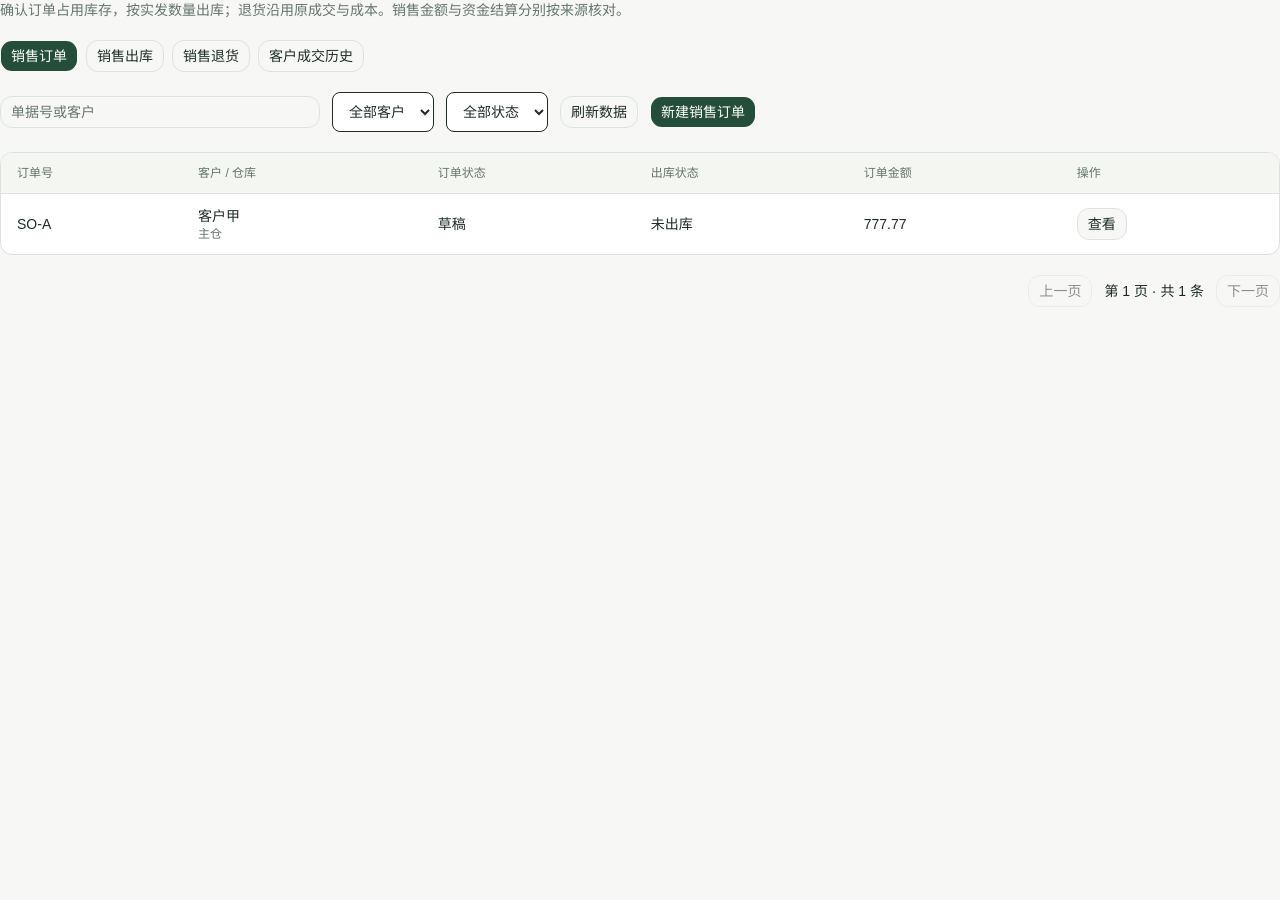
Test case: business conflict DOCUMENT_VERSION_CONFLICT does not silently retry or dismiss the review
The image size is (1280, 900).
Click the button "查看" at (1102, 224), box [1077,208,1127,240]
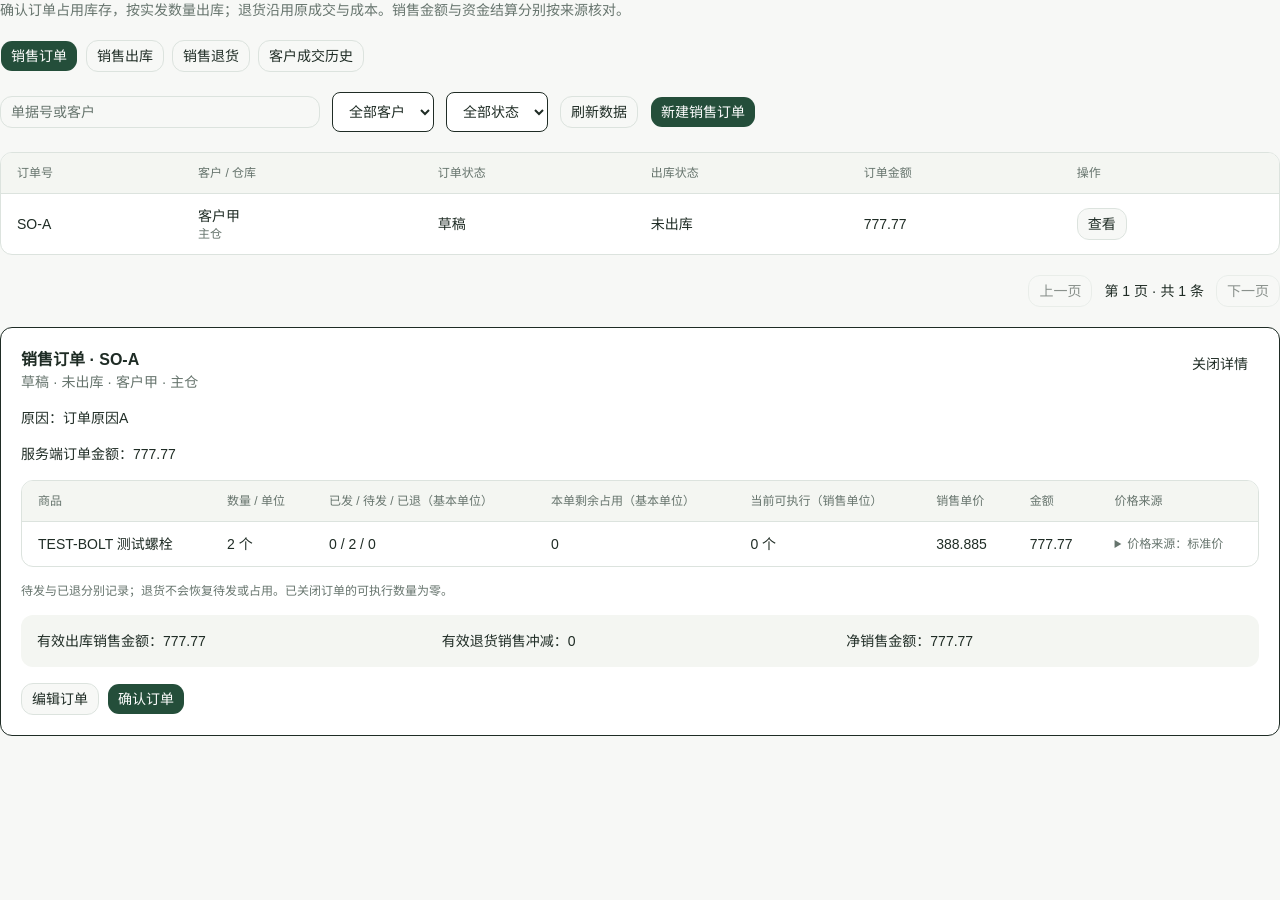
Click the button "确认订单" at (146, 699), box [107,683,185,715]
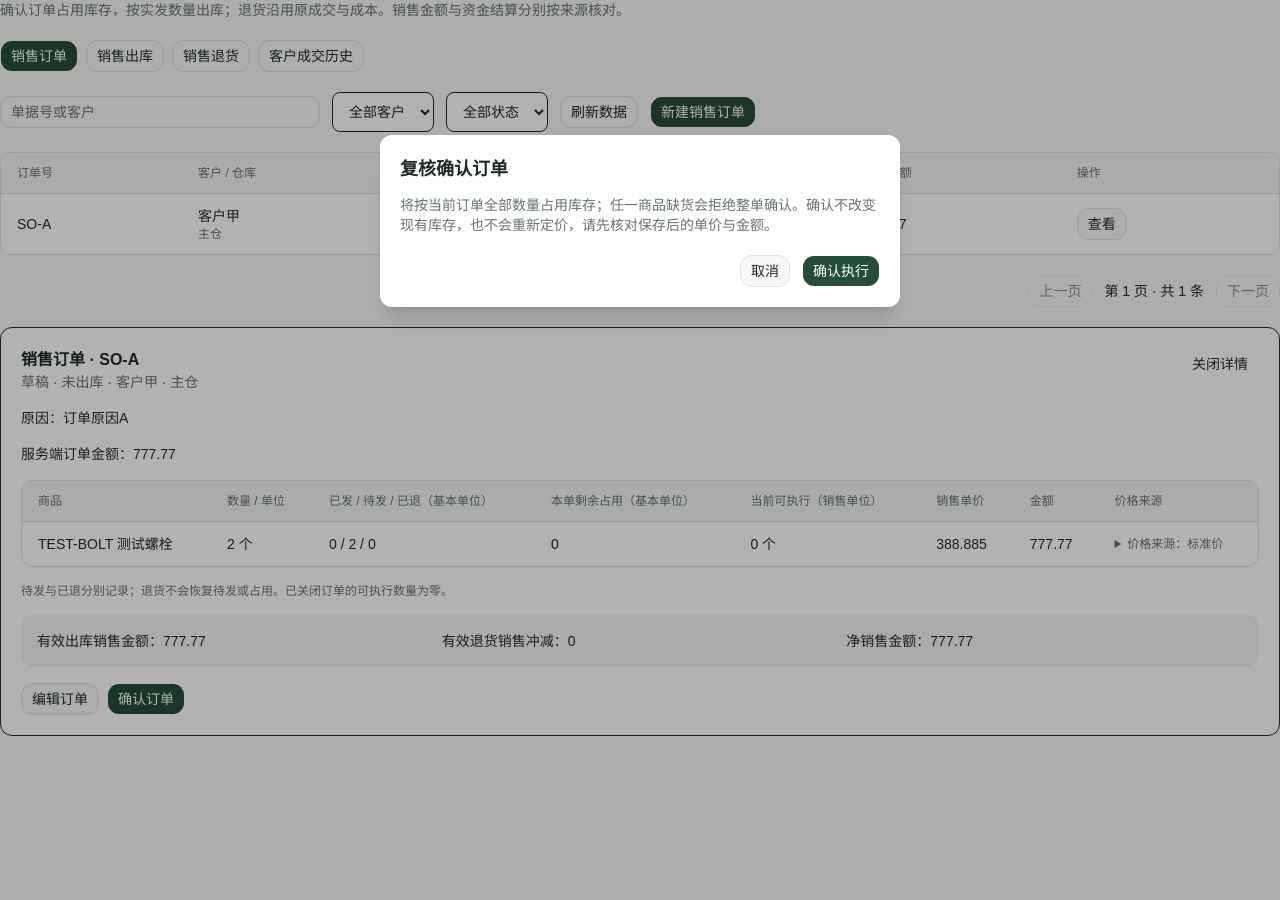
Click the button "确认执行" at (841, 271), box [802,255,880,287]
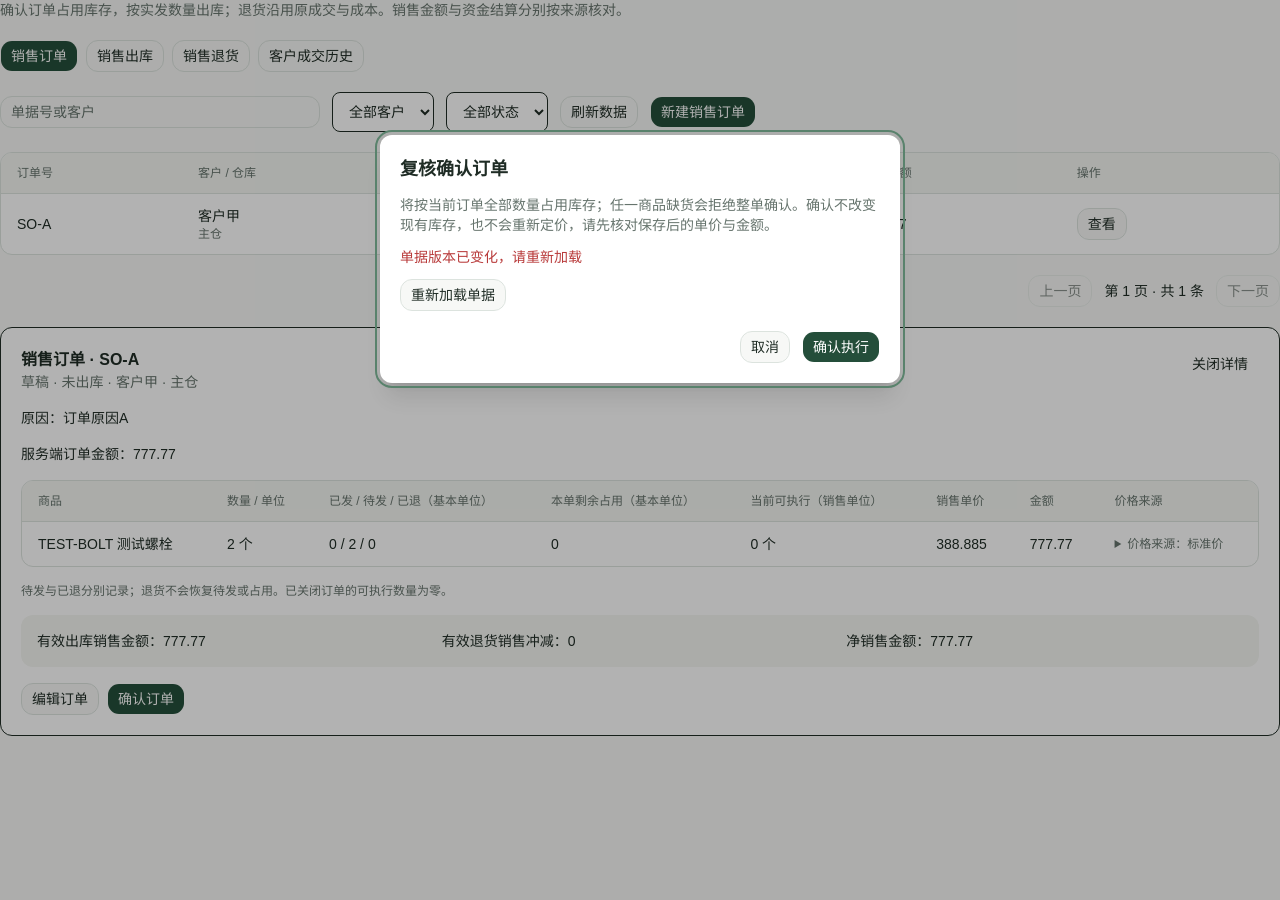
Result: the text "单据版本已变化，请重新加载" is shown at [400,249,582,265]
